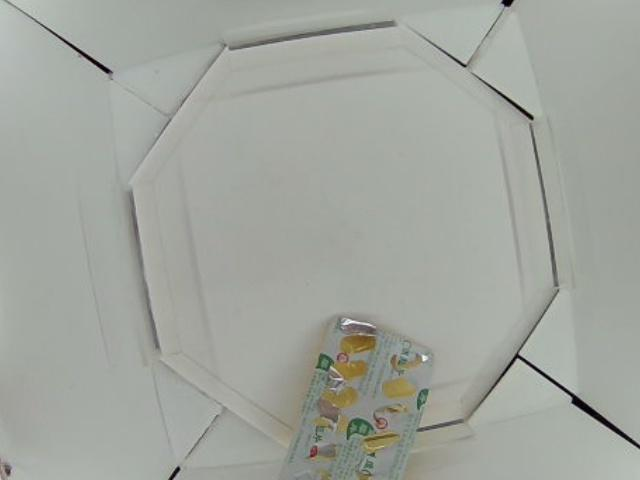Medicine: (282, 315, 435, 480)
